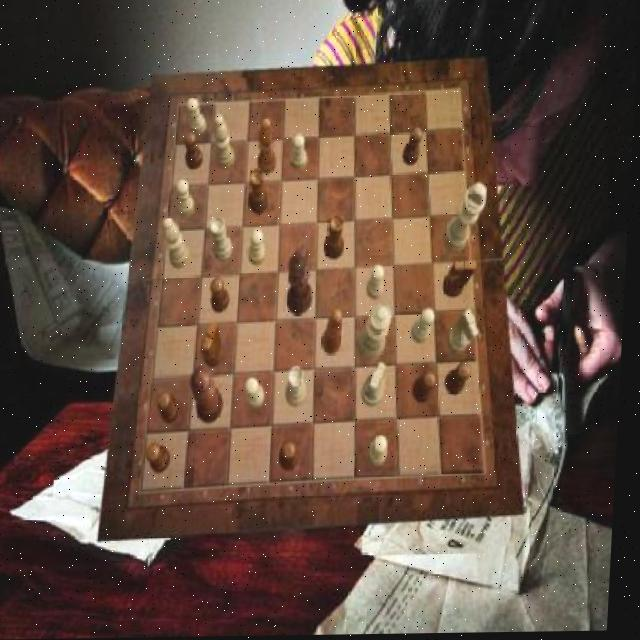bishop: (260, 118, 280, 176), (325, 311, 347, 357)
black-bishop: (288, 247, 317, 316)
black-king: (444, 261, 478, 298), (204, 322, 229, 368)
black-knight: (447, 365, 474, 398), (184, 131, 206, 170), (415, 373, 440, 406), (151, 442, 176, 474), (404, 129, 425, 167), (160, 391, 184, 424), (212, 279, 233, 315), (282, 441, 303, 472)
black-pawn: (192, 366, 228, 424)
black-queen: (326, 214, 348, 260), (250, 169, 271, 215)
black-rook: (164, 217, 194, 270), (213, 116, 238, 172)
white-bishop: (445, 183, 489, 255)
white-king: (450, 309, 483, 355), (365, 363, 390, 409)
white-knight: (413, 310, 438, 347), (186, 99, 208, 137), (178, 181, 197, 220), (249, 229, 268, 267), (372, 436, 393, 469), (291, 135, 310, 171), (368, 266, 387, 301), (248, 378, 269, 409)
white-pawn: (361, 305, 396, 361)
white-queen: (210, 217, 236, 261), (289, 367, 311, 409)
